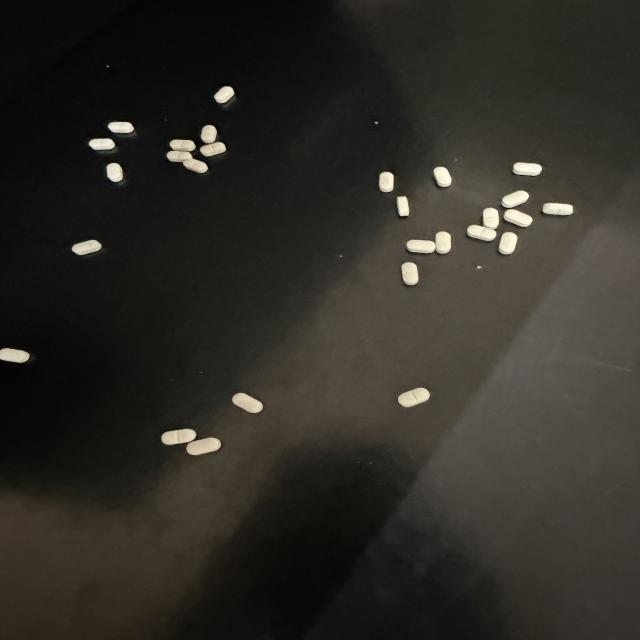pill: (232, 393, 263, 413), (398, 388, 430, 407), (187, 438, 221, 455), (162, 429, 196, 445), (504, 209, 532, 227), (467, 225, 496, 241), (502, 191, 529, 208), (72, 240, 101, 255), (0, 348, 29, 363), (513, 162, 542, 176), (499, 232, 517, 254), (402, 262, 418, 285), (200, 142, 226, 156), (407, 240, 435, 253), (543, 203, 573, 215), (183, 159, 208, 173), (214, 86, 234, 103), (434, 167, 451, 187), (483, 208, 499, 229), (436, 232, 451, 253), (89, 138, 115, 150), (107, 163, 123, 182), (379, 172, 394, 192), (170, 139, 195, 151), (201, 125, 217, 143), (108, 122, 134, 133), (167, 151, 192, 162), (397, 197, 409, 216)
